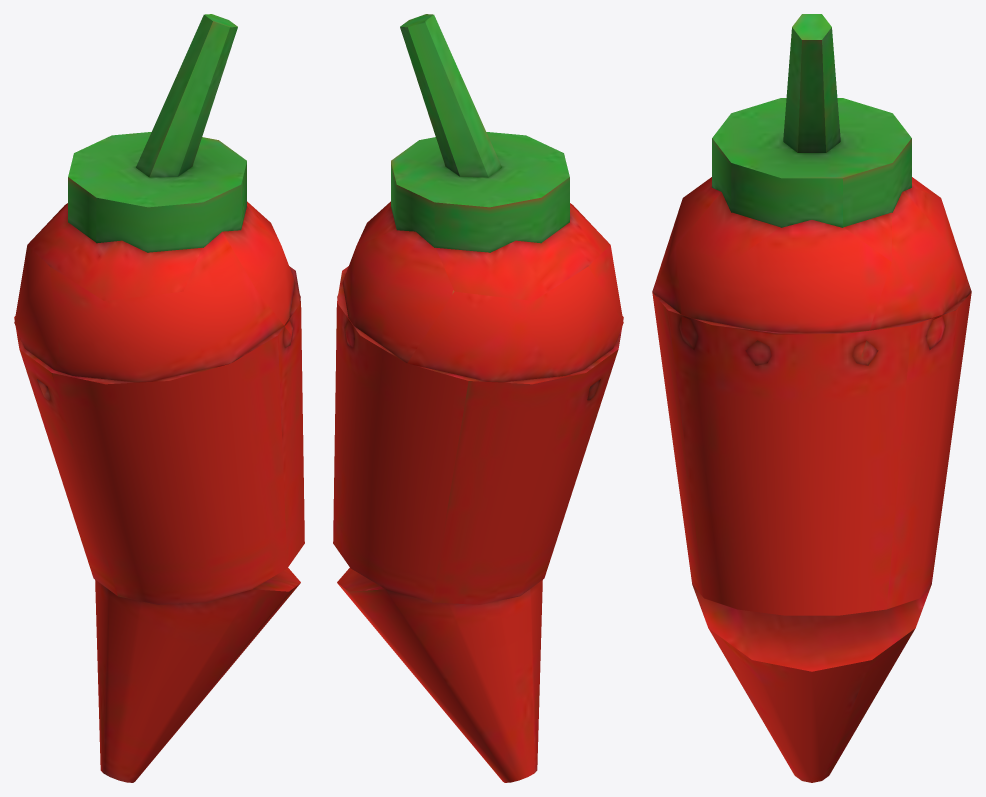
The model's file is chile.glb.
3 renders of one model, left to right at view 1: azimuth 30°, elevation 25°; view 2: azimuth 150°, elevation 25°; view 3: azimuth 270°, elevation 25°, orthographic. The views are drawn at different scales.
Parts seen in each view (by area): view 1: chile; view 2: chile; view 3: chile.
Part boxes in pixels (x1,y1,x2,y2): chile: (14, 14, 304, 782); chile: (333, 14, 623, 782); chile: (652, 14, 971, 782).
Size of the model in its own units: 0.3193 by 0.8945 by 0.32.
1 material, 1 textured.
